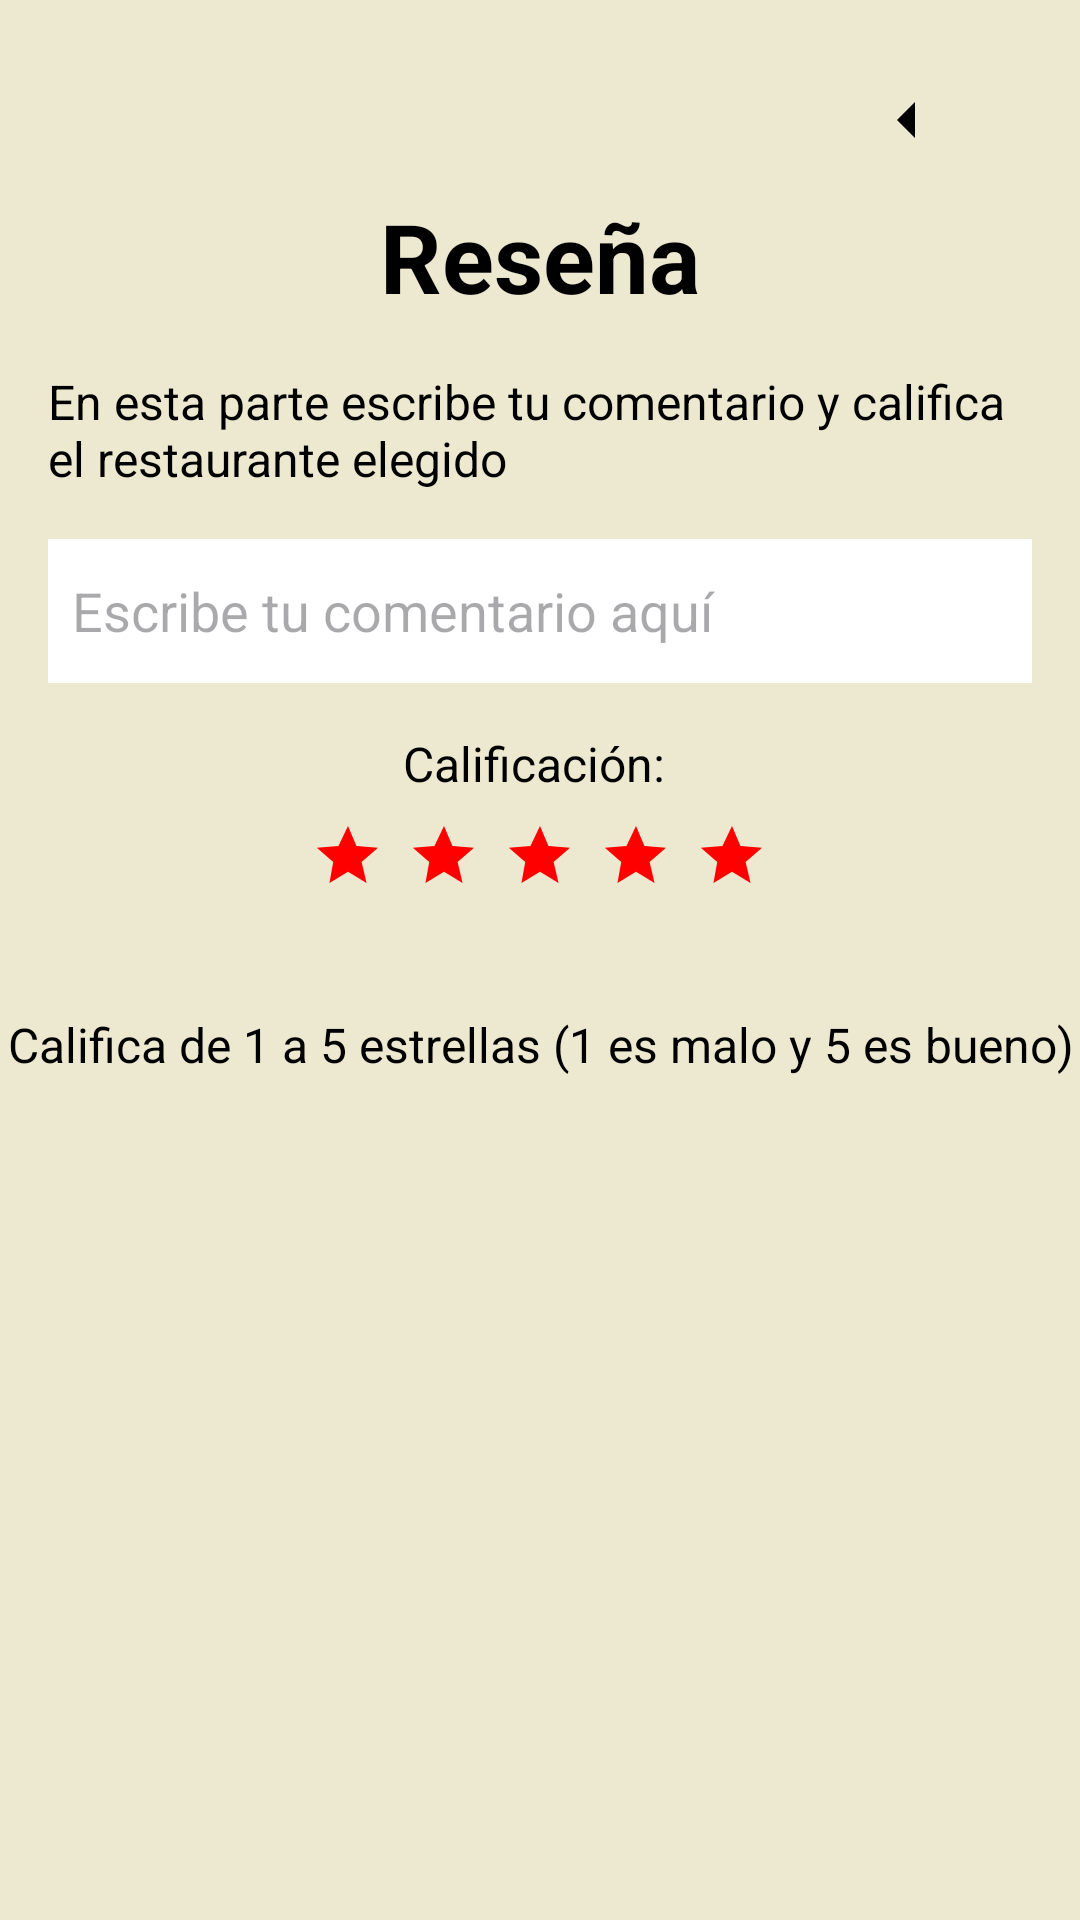

Where to tap for icons on this 1080 × 1920 app screen, as (x=x, y=y):
Estrella 1: (x=347, y=854)
Estrella 2: (x=443, y=854)
Estrella 3: (x=539, y=854)
Estrella 4: (x=635, y=854)
Estrella 5: (x=731, y=854)
Regresar: (x=906, y=120)
